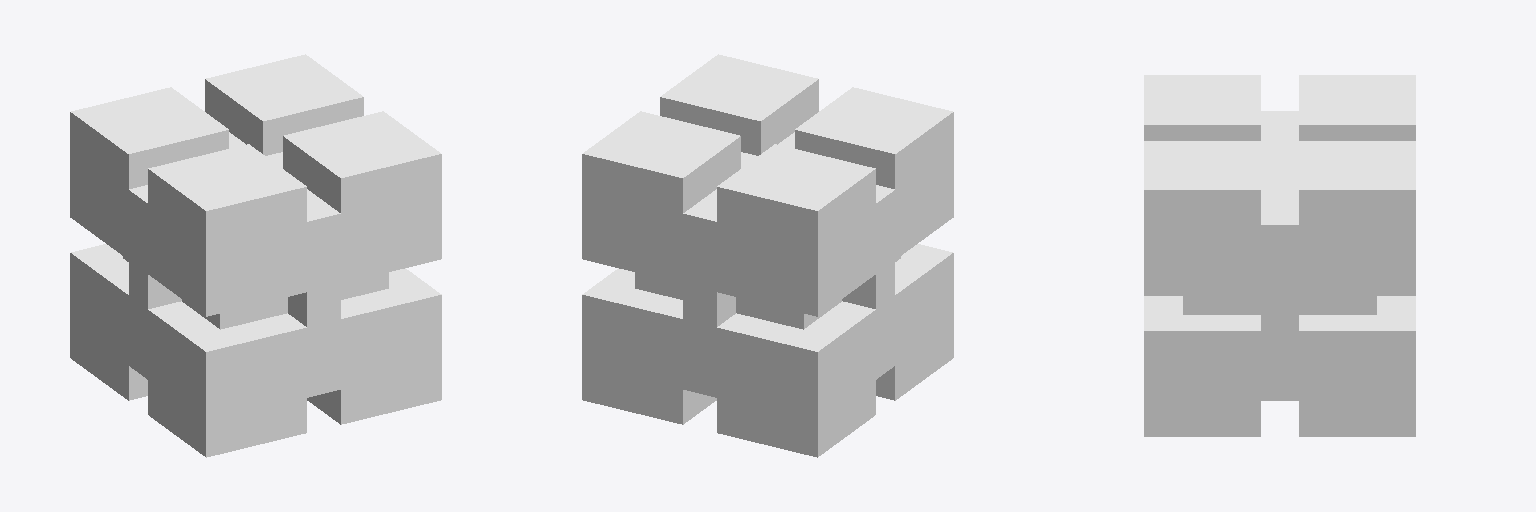
Rendered from blockFourSides.obj.
3 views of the same model, side by side, from view 1: azimuth 30°, elevation 25°; view 2: azimuth 150°, elevation 25°; view 3: azimuth 270°, elevation 25° (orthographic).
Visible parts, largest first — view 1: object 1; view 2: object 1; view 3: object 1.
Boxes of the visible parts, x1,y1,x2,y2 form: object 1: [70, 54, 441, 457]; object 1: [582, 54, 953, 457]; object 1: [1144, 75, 1415, 436].
Size of the model in its own units: 0.7 by 0.7 by 0.7.